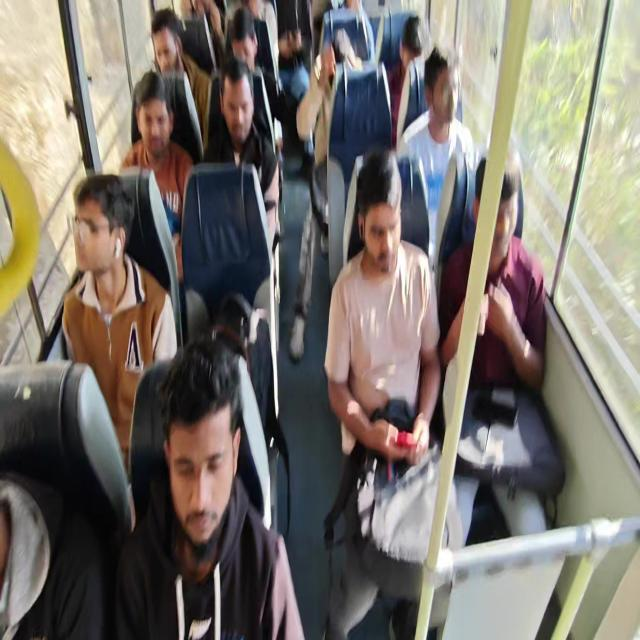person: (49, 1, 562, 637), (323, 148, 460, 637), (112, 336, 305, 638), (439, 149, 550, 546), (60, 172, 178, 476), (0, 471, 106, 638), (396, 46, 474, 270), (119, 69, 195, 283), (203, 57, 280, 254), (288, 47, 335, 362), (130, 8, 208, 164), (224, 6, 282, 152), (386, 14, 422, 148), (177, 0, 225, 78)
